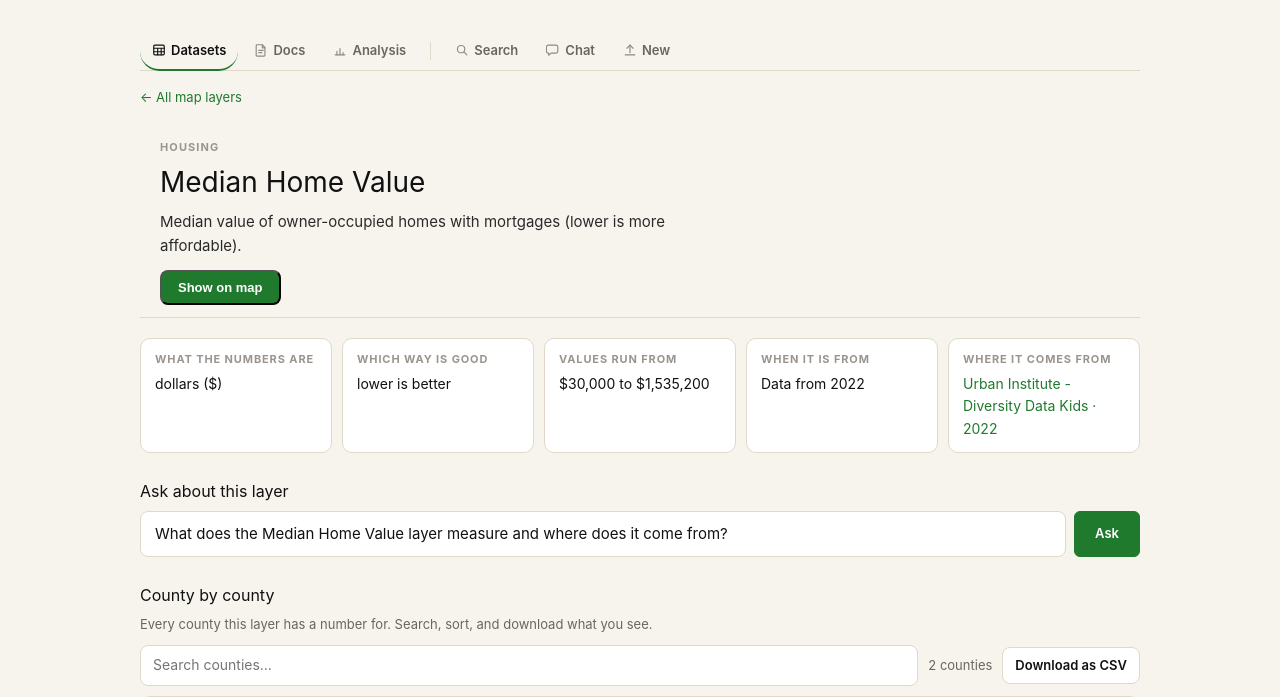
Test case: LayerAboutView — Show on map, in place (P6-14) › downloads no county polygons until the pane is opened
Click the button with test id "layer-map-open".
click(220, 288)  # box [160,270,280,305]
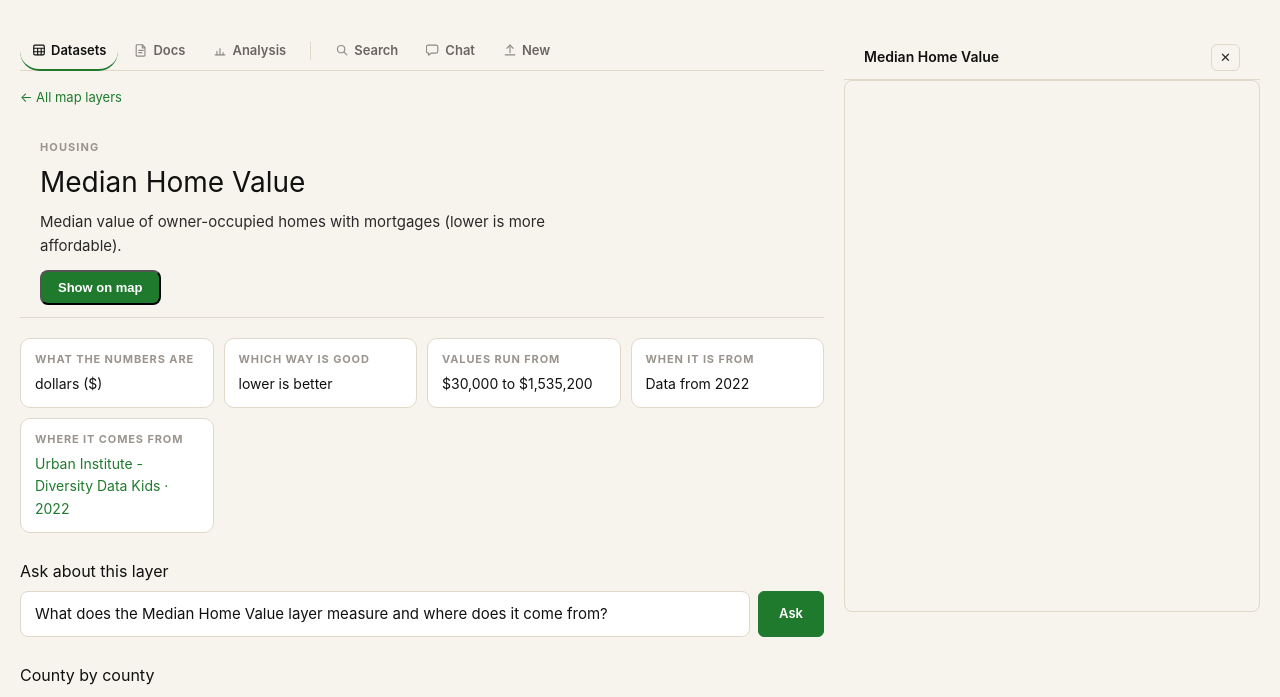
Result: the element with test id "layer-map-pane" is shown at [844,32,1260,612]
